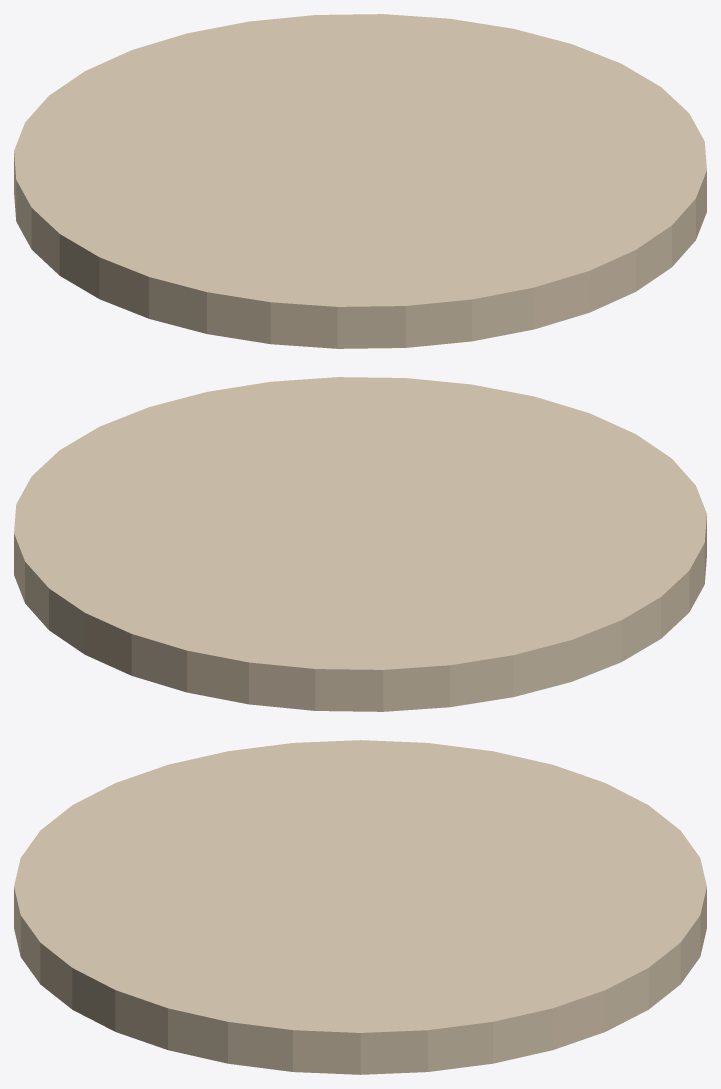
Rendered from white_chess.obj.
3 renders of one model, top to bottom at view 1: azimuth 30°, elevation 25°; view 2: azimuth 150°, elevation 25°; view 3: azimuth 270°, elevation 25°, orthographic.
Parts seen in each view (by area): view 1: WhiteChess_材質.002; view 2: WhiteChess_材質.002; view 3: WhiteChess_材質.002.
Boxes of the visible parts, x1=… form: WhiteChess_材質.002: x1=14, y1=14, x2=706, y2=348; WhiteChess_材質.002: x1=14, y1=377, x2=706, y2=711; WhiteChess_材質.002: x1=14, y1=740, x2=706, y2=1074.
Bounding box in the file's own units: 0.15 × 0.01 × 0.15.
Materials: 1 (1 with a texture image).
